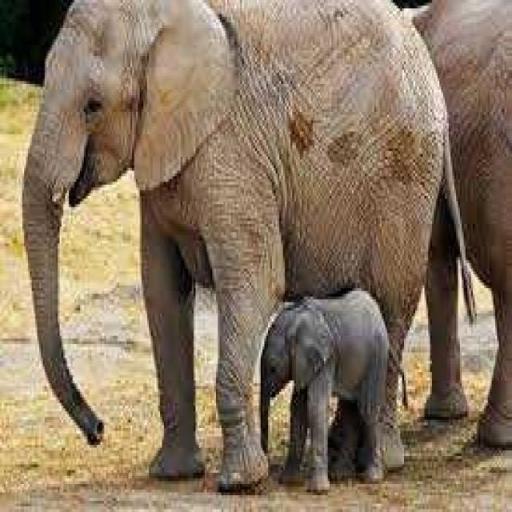Elephant: (20, 0, 475, 490), (398, 0, 510, 448), (257, 288, 404, 493)
